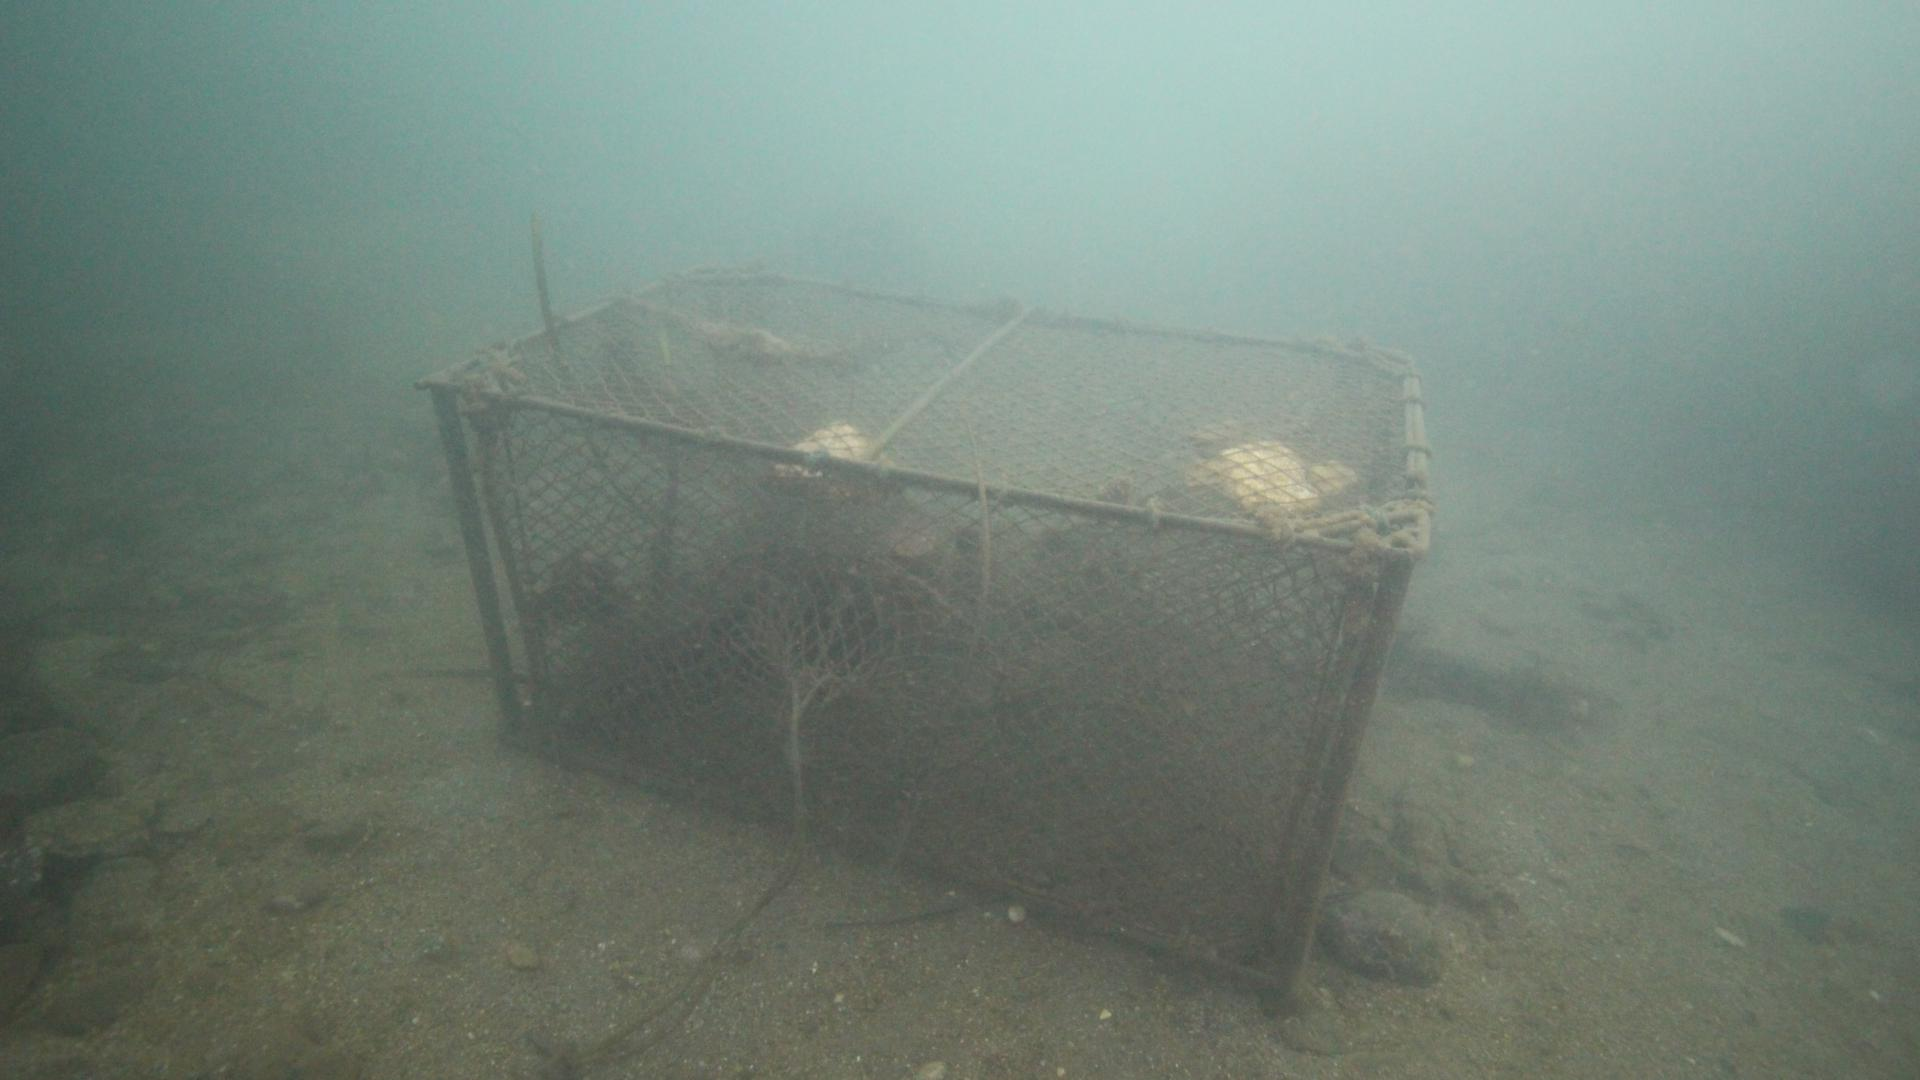rectangular fish trap: (415, 258, 1433, 992)
